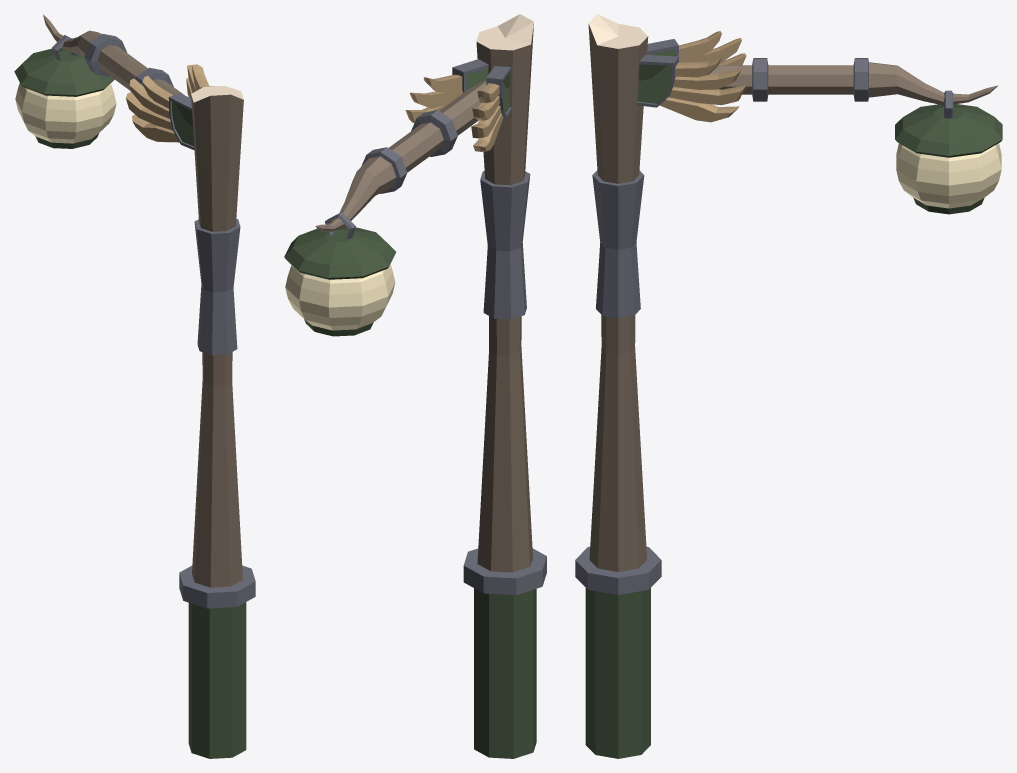
Rendered from _lamp_1.fbx.
3 views of the same model, side by side, from view 1: azimuth 30°, elevation 25°; view 2: azimuth 150°, elevation 25°; view 3: azimuth 270°, elevation 25° (orthographic). The views are drawn at different scales.
Visible parts, largest first — view 1: lamp_1; view 2: lamp_1; view 3: lamp_1.
Part boxes in pixels (box(x1,y1,x2,y2)): lamp_1: box(14, 14, 255, 758); lamp_1: box(284, 14, 546, 758); lamp_1: box(575, 14, 1002, 758).
Bounding box in the file's own units: 49.7 × 350 × 188.
